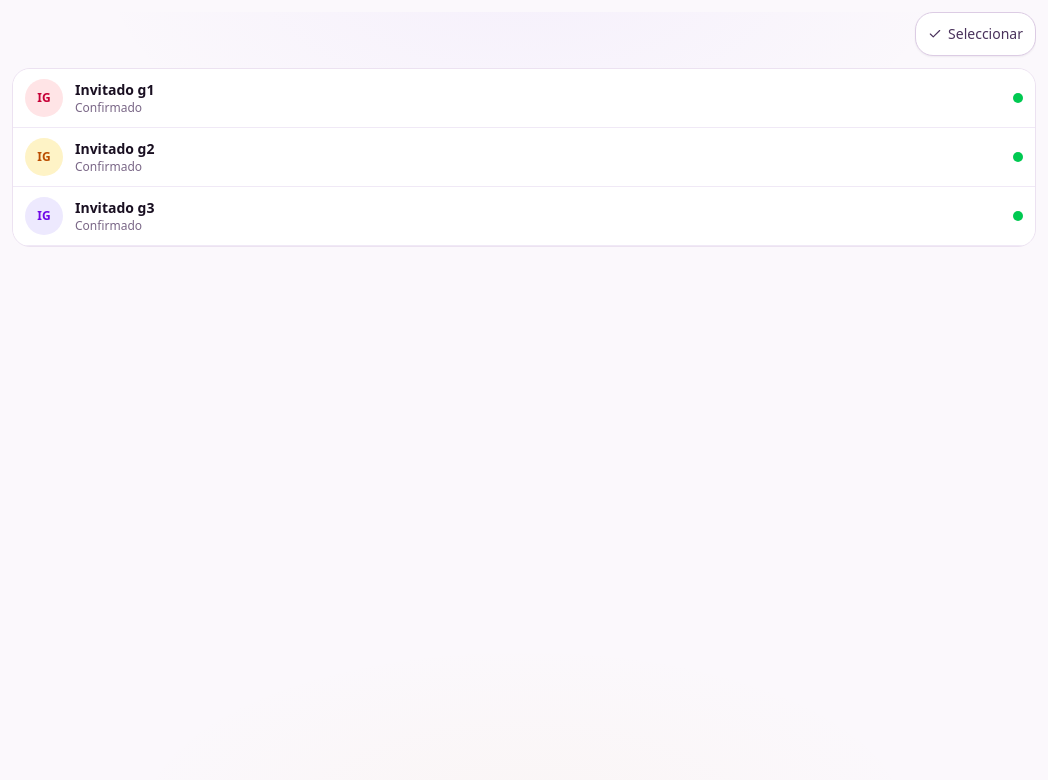
Test: GuestList — modo selección › vuelve a "todos seleccionados" cuando se marca manualmente el último pendiente
Click the button "Seleccionar": (976, 34) [915,12,1036,56]
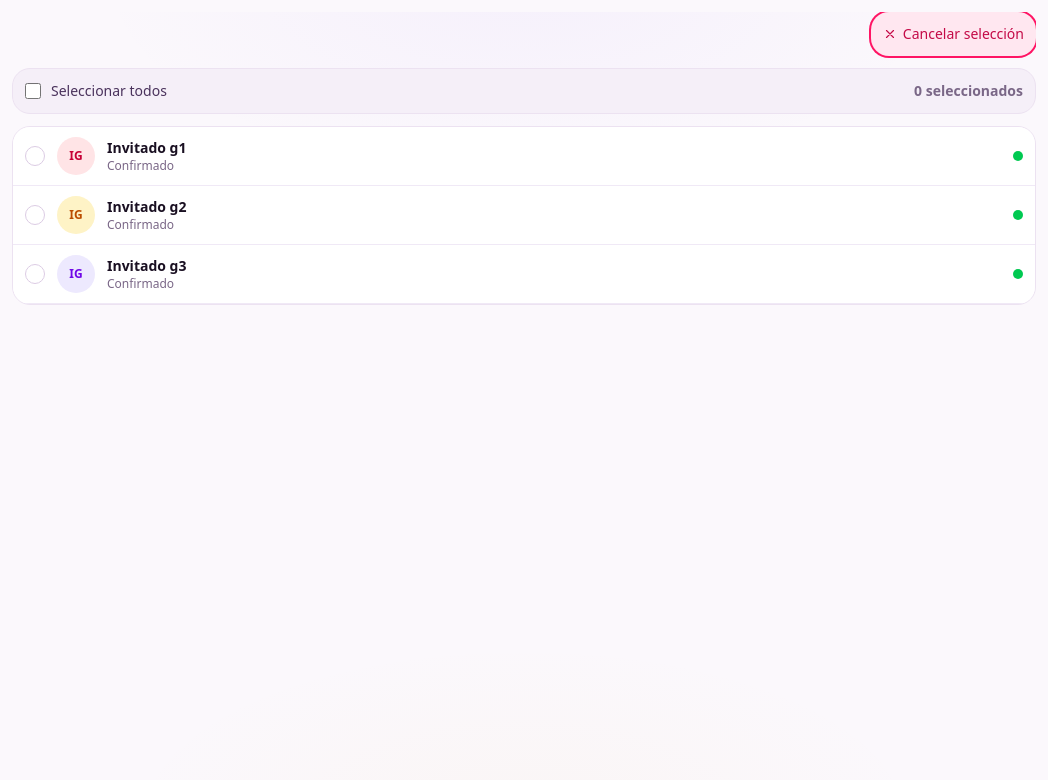
Click the button "IG Invitado g1 Confirmado": (76, 156) [13,127,1035,185]
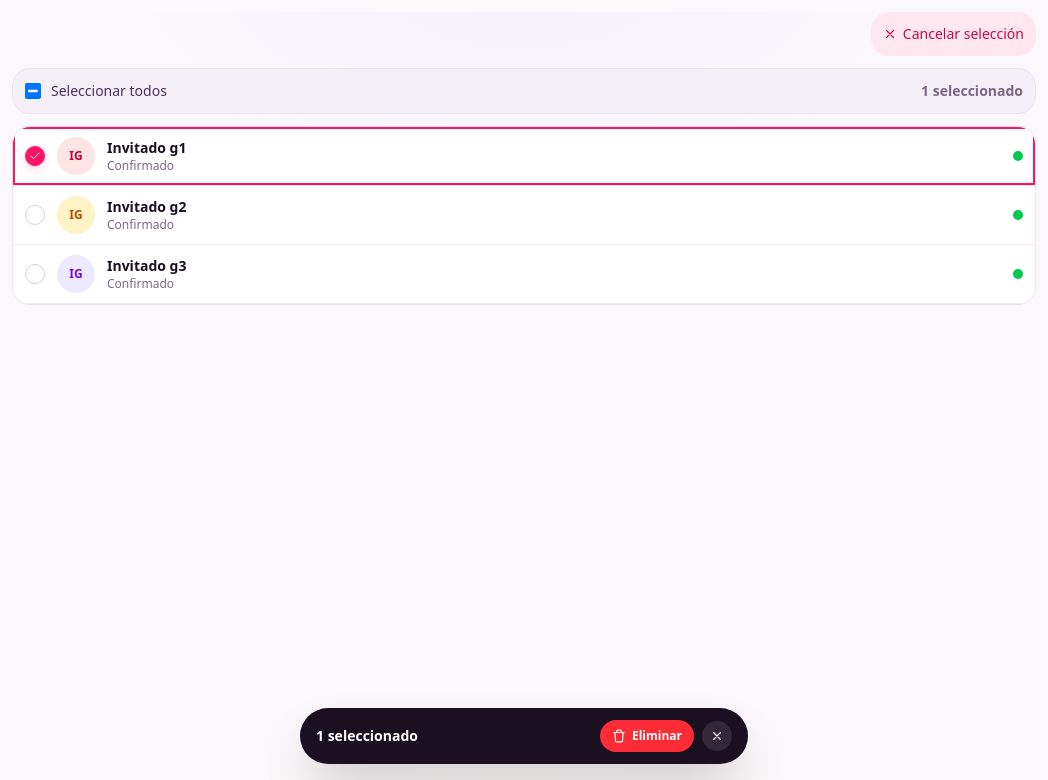
Click the button "IG Invitado g2 Confirmado": (76, 215) [13,186,1035,244]
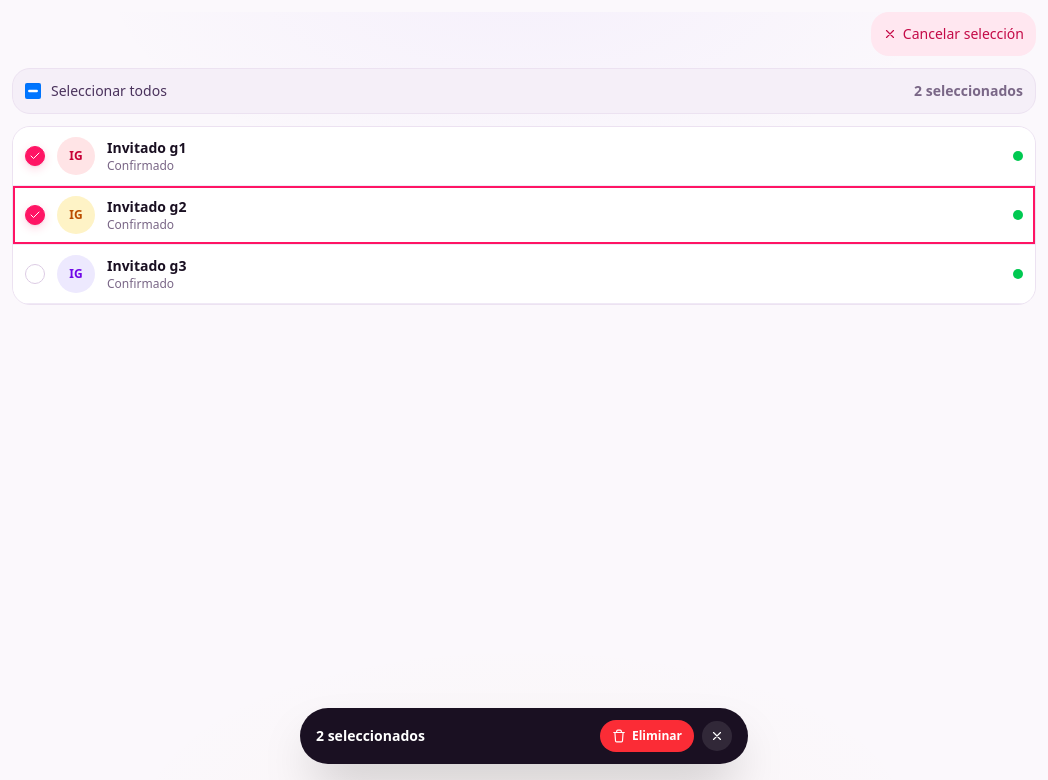
Click the button "IG Invitado g3 Confirmado": (76, 274) [13,245,1035,303]
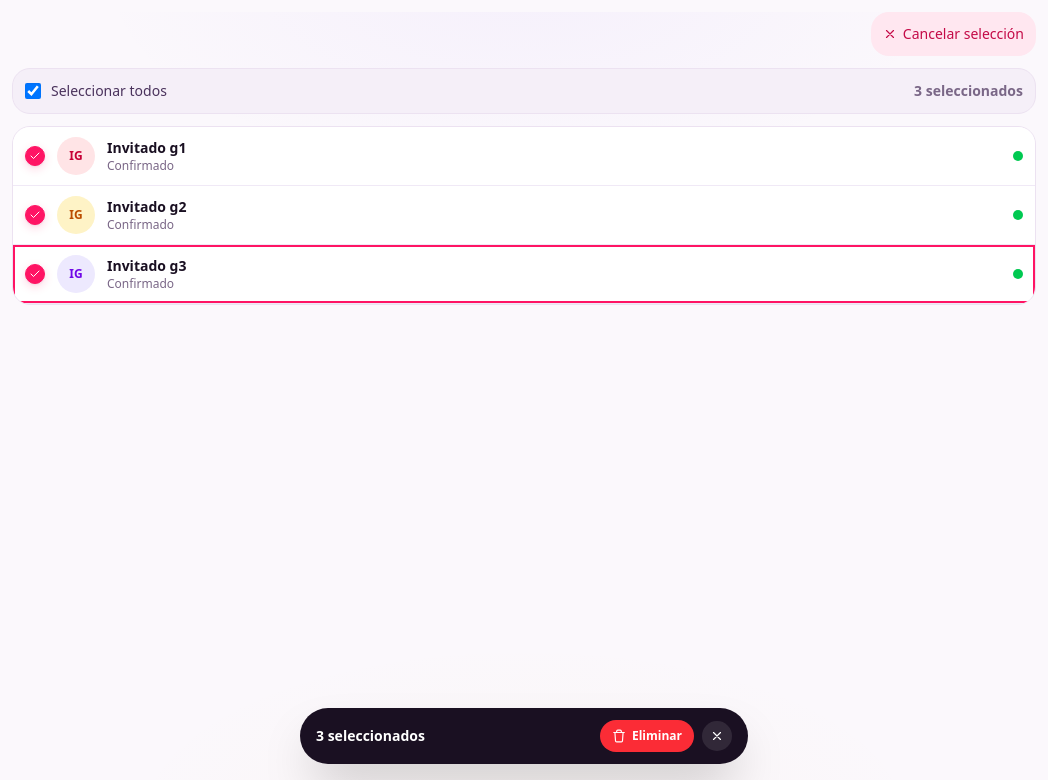
Check: the checkbox named "Seleccionar todos los invitados" is checked, box [25,83,41,99]
